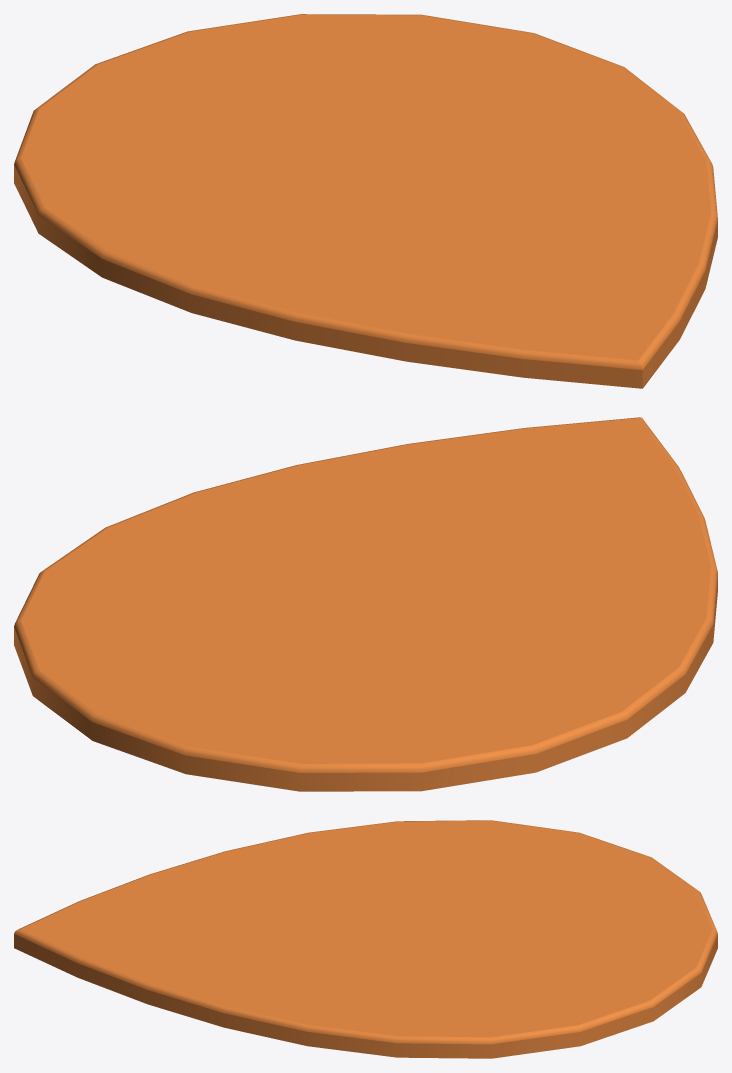
The model's file is Markierung.fbx.
3 renders of one model, top to bottom at view 1: azimuth 30°, elevation 25°; view 2: azimuth 150°, elevation 25°; view 3: azimuth 270°, elevation 25°, orthographic. The views are drawn at different scales.
Visible parts, largest first — view 1: Markierung; view 2: Markierung; view 3: Markierung.
Boxes of the visible parts, bbox=[...] form: Markierung: bbox=[14, 14, 717, 388]; Markierung: bbox=[14, 417, 717, 791]; Markierung: bbox=[14, 820, 717, 1058].
Bounding box in the file's own units: 99.01 × 4 × 133.
